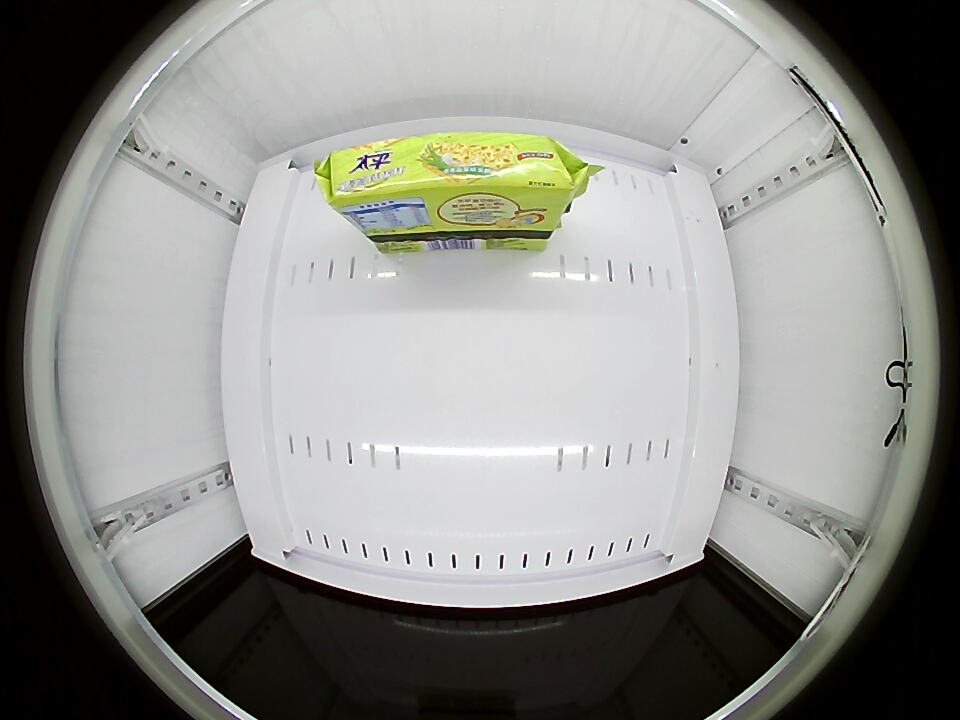taipingshuda: (323, 131, 578, 238)
